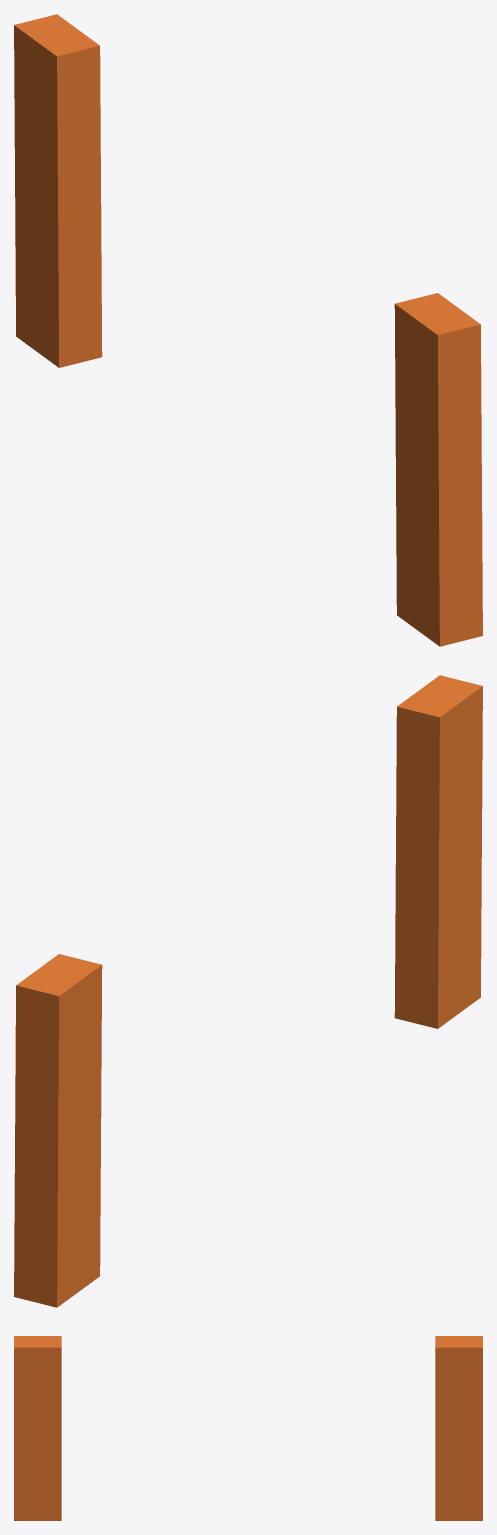
Rendered from RakudaL.FBX.
3 renders of one model, top to bottom at view 1: azimuth 30°, elevation 25°; view 2: azimuth 150°, elevation 25°; view 3: azimuth 270°, elevation 25°, orthographic. The views are drawn at different scales.
Visible parts, largest first — view 1: Box006, Box005; view 2: Box006, Box005; view 3: Box006, Box005.
Boxes of the visible parts, <box> form: Box006: <box>14,14,102,367</box>; Box005: <box>394,293,482,646</box>; Box006: <box>14,954,102,1307</box>; Box005: <box>394,675,482,1028</box>; Box006: <box>435,1336,482,1520</box>; Box005: <box>14,1336,61,1520</box>.
Bounding box in the file's own units: 0.234 × 1.55 × 3.8.
1 material, 1 textured.
